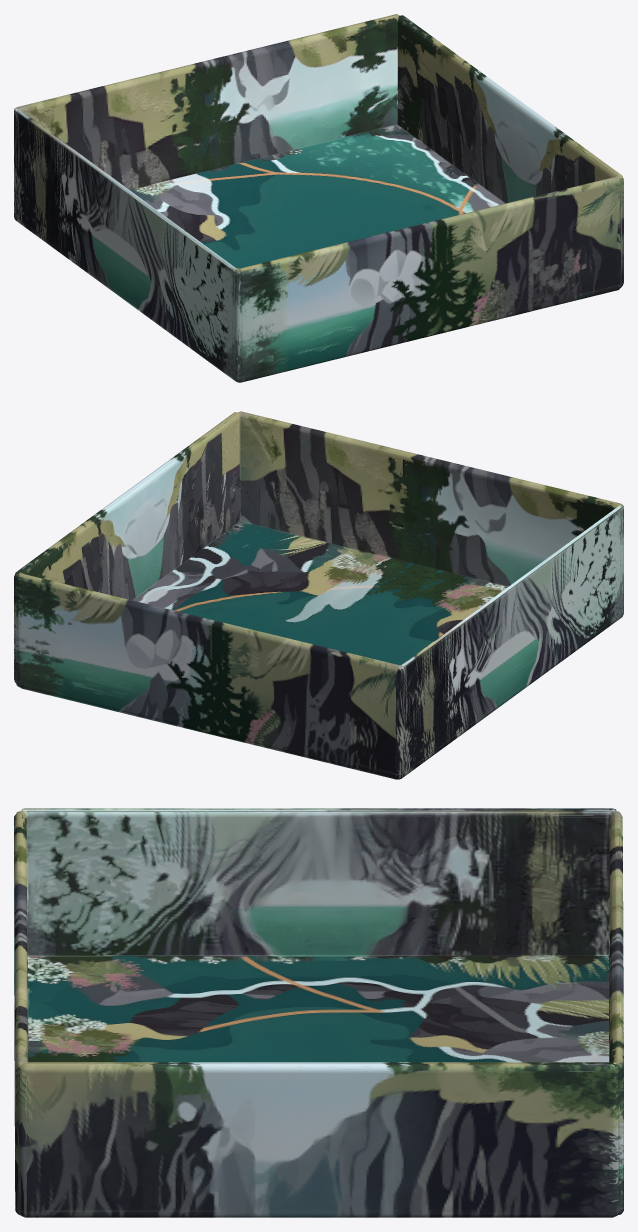
The model's file is 3d-box-puffin.glb.
The picture shows the model from 3 angles, top to bottom: view 1: azimuth 30°, elevation 25°; view 2: azimuth 150°, elevation 25°; view 3: azimuth 270°, elevation 25°; orthographic projection. The views are drawn at different scales.
Bounding box in the file's own units: 1.9 × 0.5284 × 1.9.
Materials: 1 (1 with a texture image).
